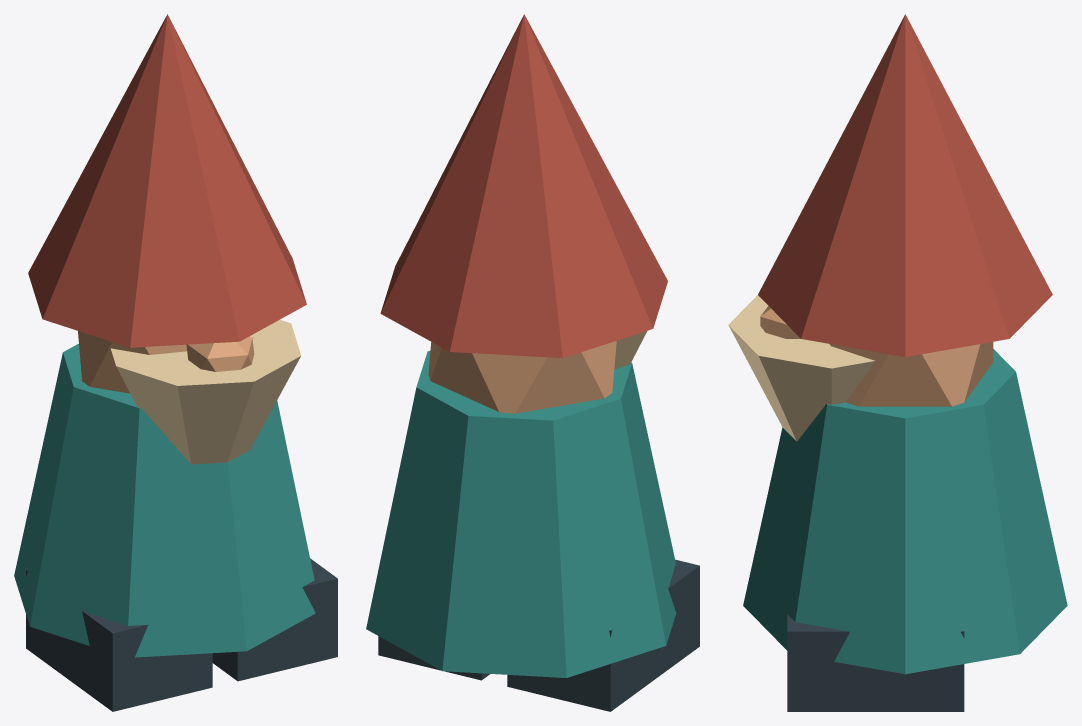
The model's file is upgrade_garden_gnome.glb.
The picture shows the model from 3 angles, left to right: view 1: azimuth 30°, elevation 25°; view 2: azimuth 150°, elevation 25°; view 3: azimuth 270°, elevation 25°; orthographic projection. The views are drawn at different scales.
Visible parts, largest first — view 1: body, hat, beard, shoe, shoe.001, face, nose; view 2: body, hat, face, shoe, shoe.001, beard; view 3: body, hat, shoe.001, beard, face, nose.
Boxes of the visible parts, box(x1,y1,x2,y2) form: body: box(14, 343, 315, 657); hat: box(28, 14, 306, 347); beard: box(110, 319, 301, 464); shoe: box(26, 570, 212, 711); shoe.001: box(212, 558, 337, 681); face: box(78, 331, 186, 393); nose: box(186, 336, 254, 371); body: box(366, 350, 676, 677); hat: box(380, 14, 667, 358); face: box(428, 341, 616, 413); shoe: box(507, 559, 699, 711); shoe.001: box(378, 636, 489, 680); beard: box(614, 331, 647, 369); body: box(743, 349, 1067, 674); hat: box(758, 14, 1052, 356); shoe.001: box(787, 614, 964, 711); beard: box(728, 295, 874, 441); face: box(829, 342, 993, 406); nose: box(760, 306, 800, 338).
Bounding box in the file's own units: 0.44 × 0.96 × 0.46.
